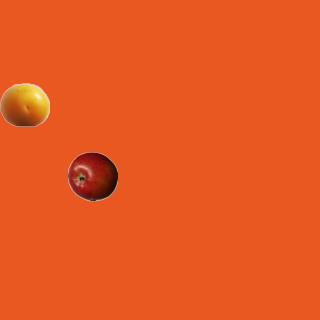Apple Braeburn: (67, 151, 117, 201)
Cherry Wax Yellow: (0, 79, 49, 129)
